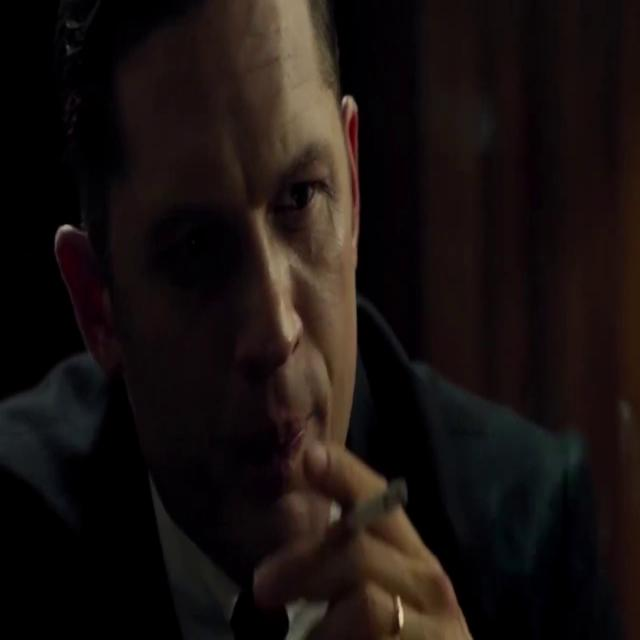Smooking: (348, 459, 416, 536)
